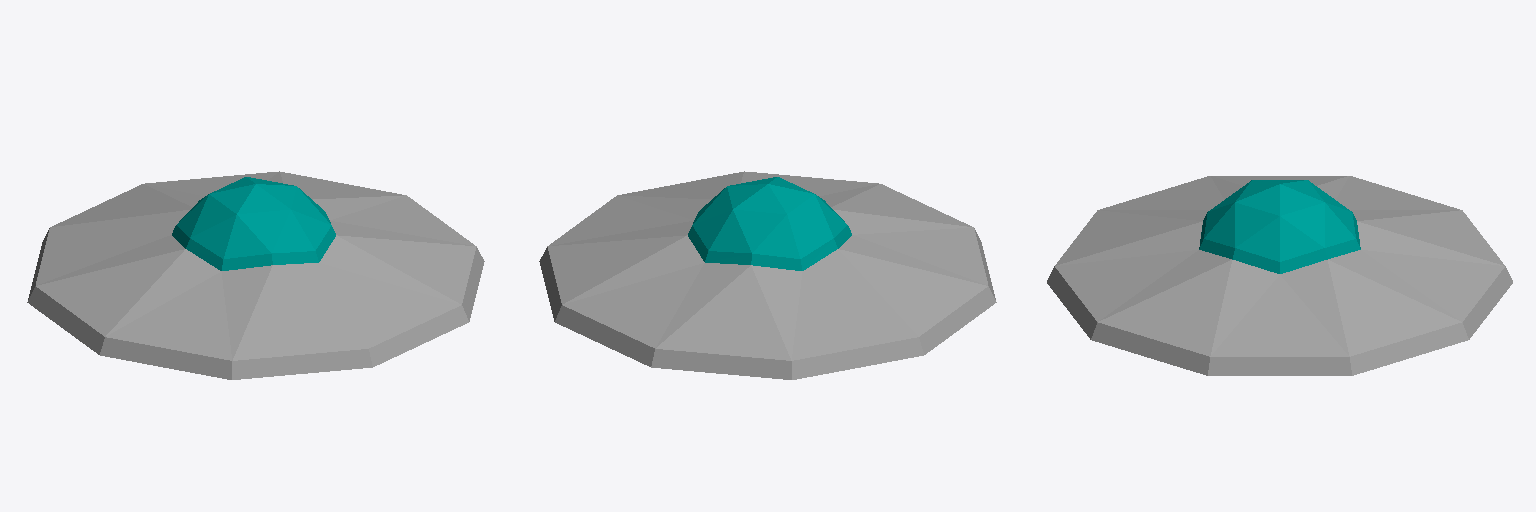
The model's file is ufo.obj.
3 views of the same model, side by side, from view 1: azimuth 30°, elevation 25°; view 2: azimuth 150°, elevation 25°; view 3: azimuth 270°, elevation 25° (orthographic).
Parts seen in each view (by area): view 1: Icosphere; view 2: Icosphere; view 3: Icosphere.
Boxes of the visible parts, x1=… form: Icosphere: x1=27, y1=171, x2=484, y2=379; Icosphere: x1=539, y1=171, x2=996, y2=379; Icosphere: x1=1047, y1=176, x2=1512, y2=375.
Bounding box in the file's own units: 4.51 × 1.61 × 4.74.